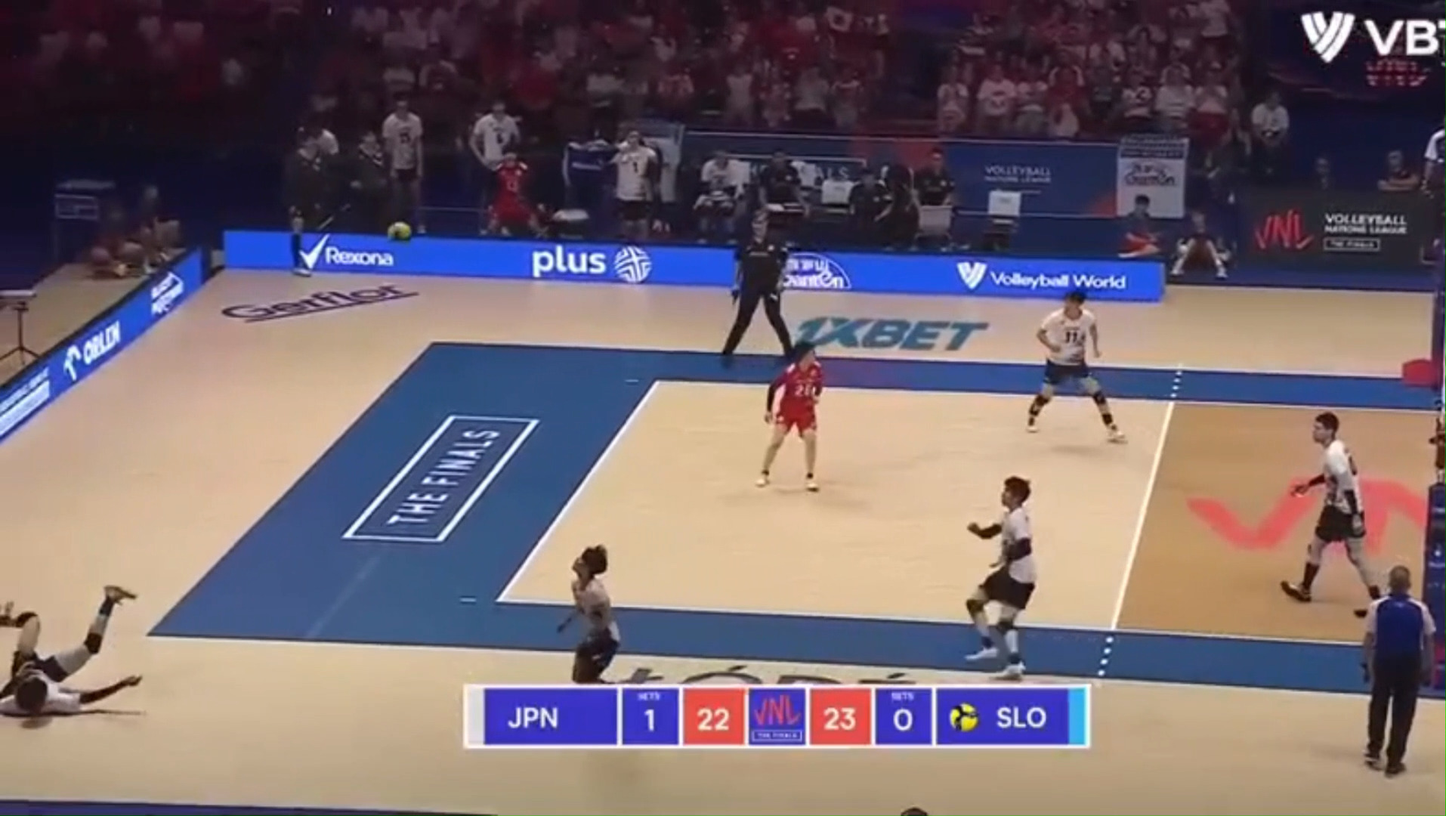ball: (385, 221, 412, 242)
player 1: (1280, 411, 1382, 602), (0, 585, 139, 719), (1027, 289, 1124, 441), (966, 476, 1037, 678), (757, 342, 823, 492), (559, 544, 620, 683)
referee: (1363, 566, 1435, 777), (721, 210, 793, 361)
